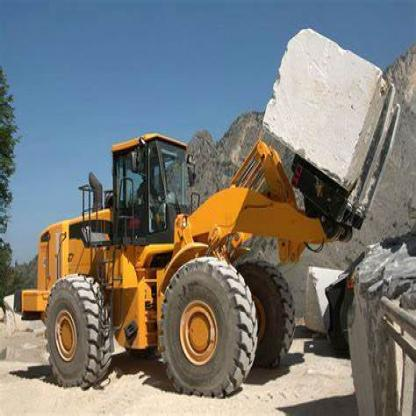bull_dozer/loader/grader: (7, 103, 345, 404)
